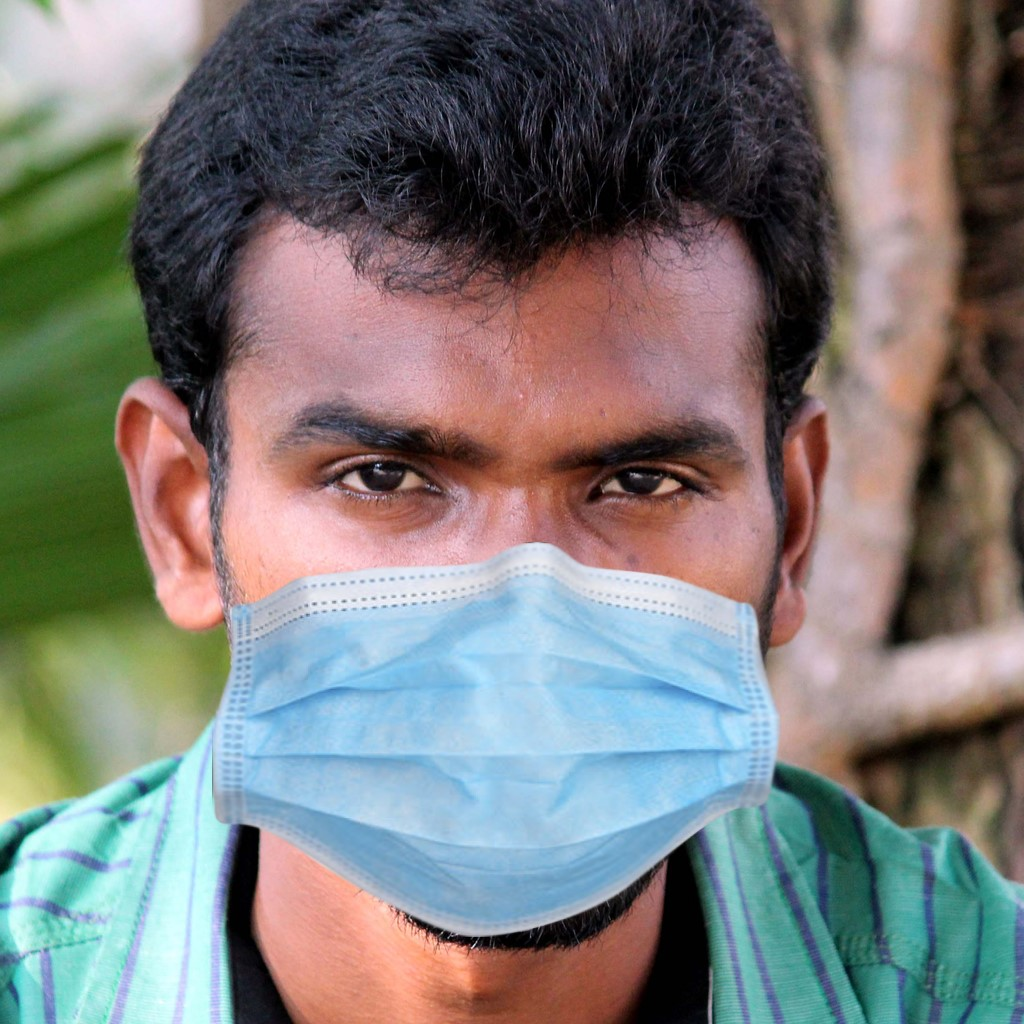con_mascara: (193, 144, 785, 956)
